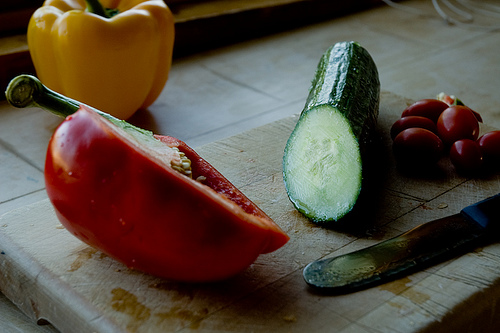cucumber: (283, 39, 381, 226)
